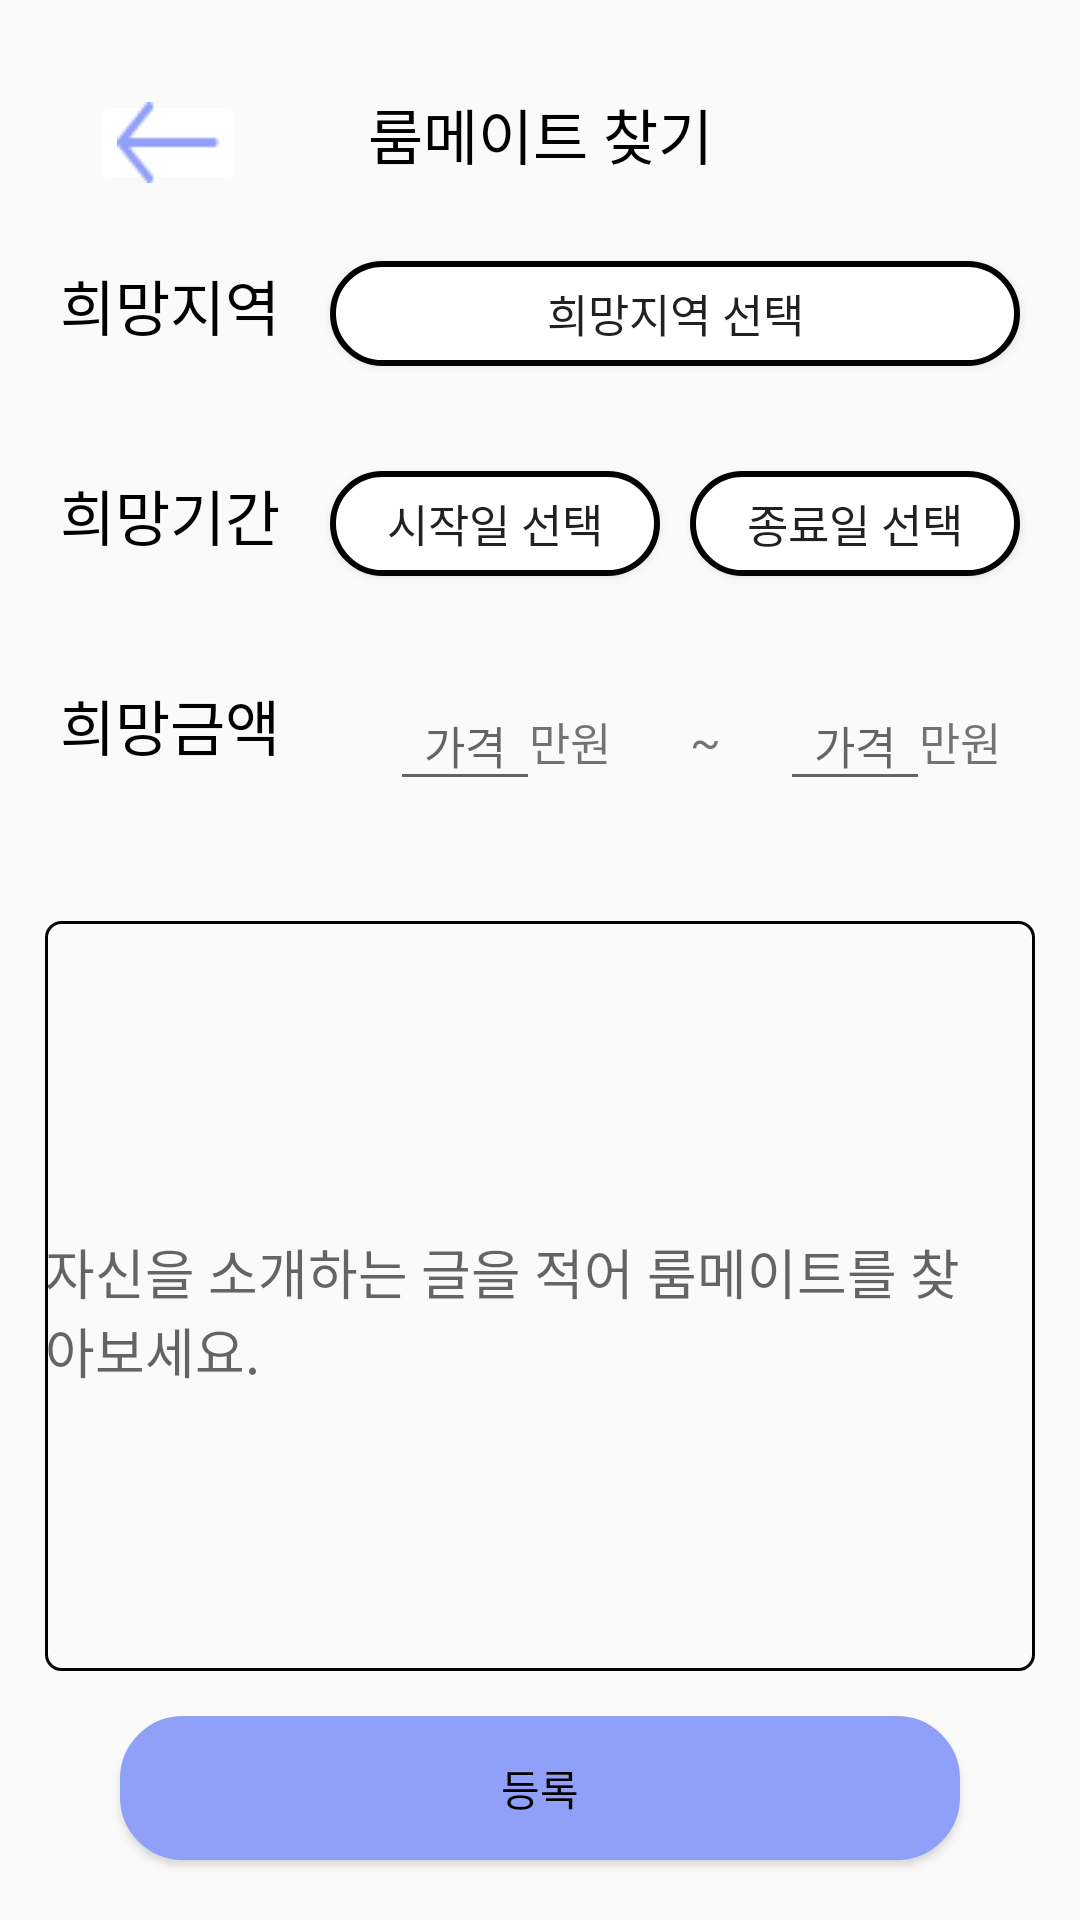

Icons on this 1080×1920 Android screen, each with its box as BBox(x1, y1, x2, y2):
arrow left: BBox(117, 102, 219, 183)
